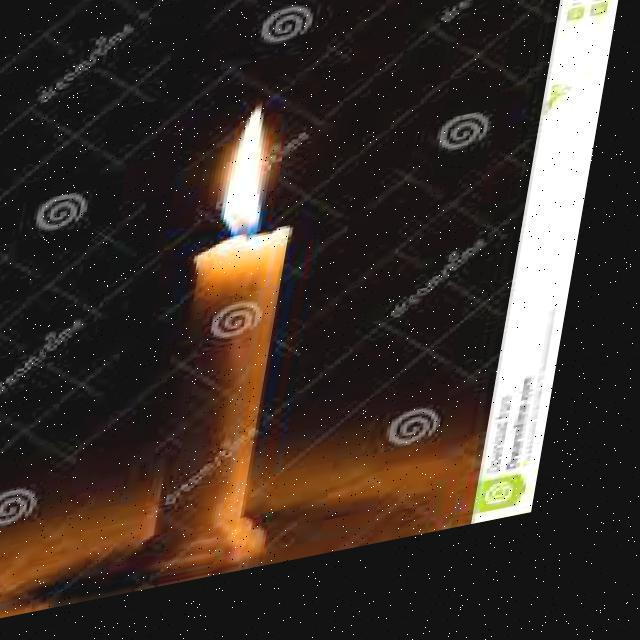Fire: (196, 107, 309, 266)
